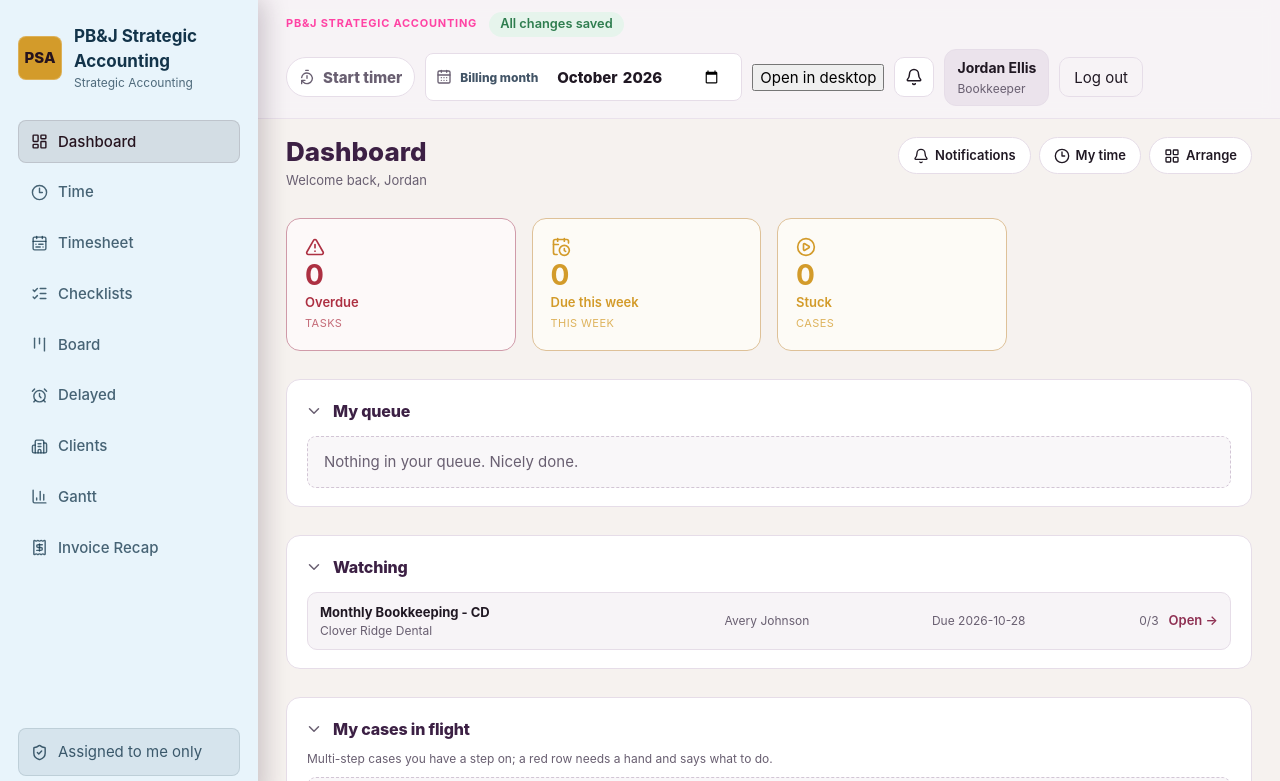
it: preview and staff › a bookkeeper arranges their own Dashboard
This screenshot has width=1280, height=781.
Expected: the heading "Dashboard" is shown, [286,137,427,167]
Click the button "Arrange" at (1200, 156), box [1149,137,1252,174]
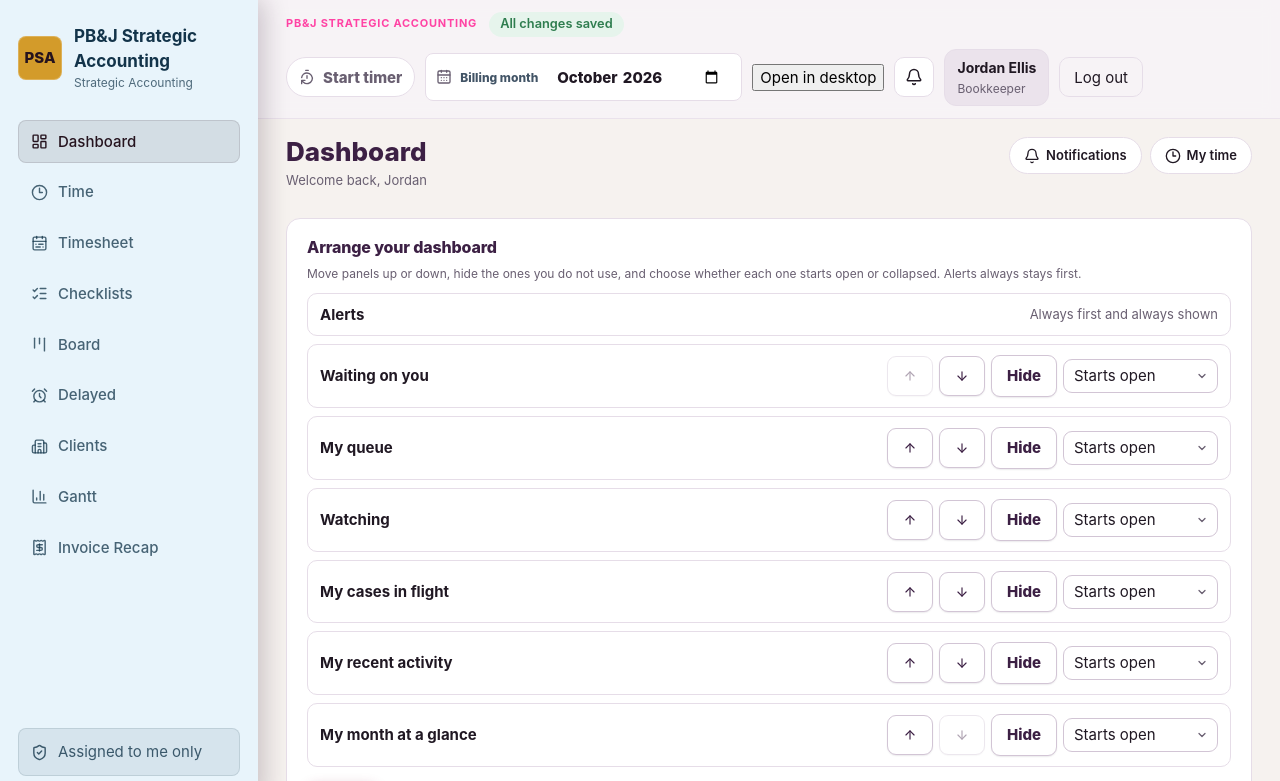
Click the button with aria-label "Hide Watching" at (1024, 520), box [991,499,1057,541]
(page scrolled)
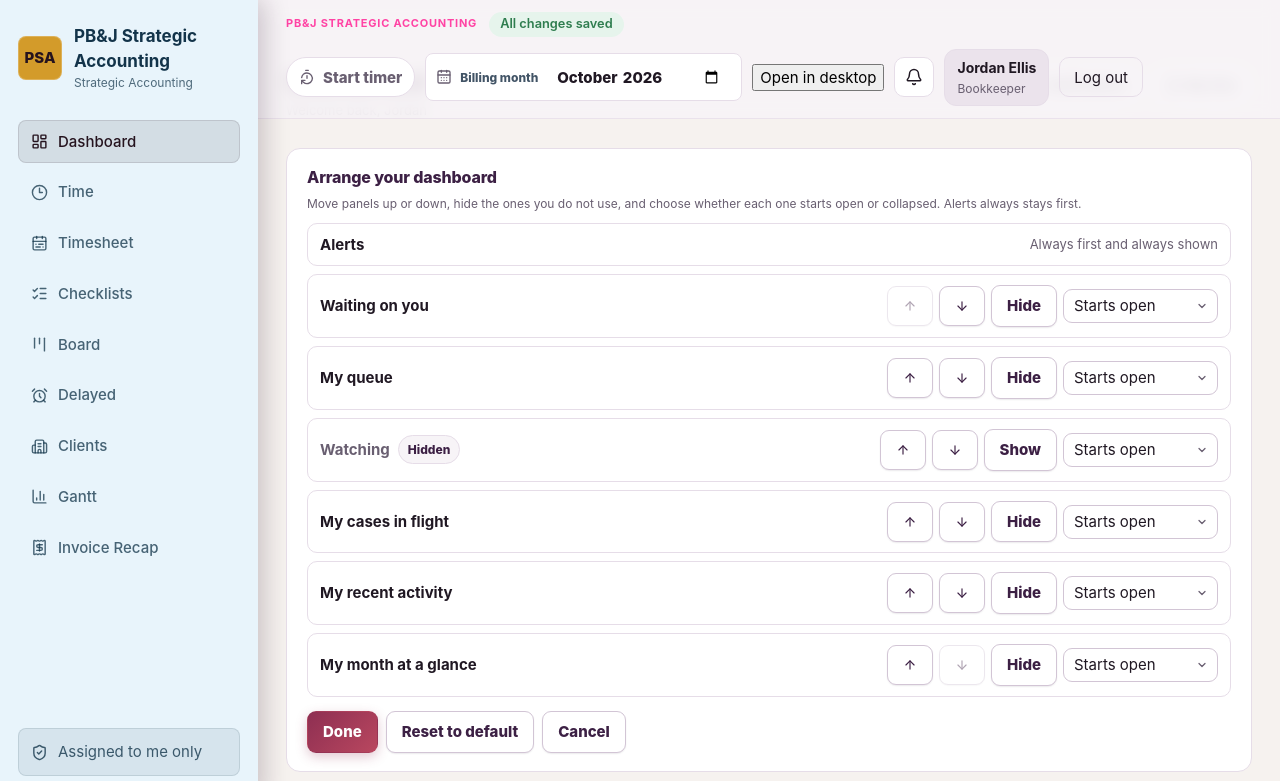
Click the button "Done" at (342, 732), box [307,711,378,753]
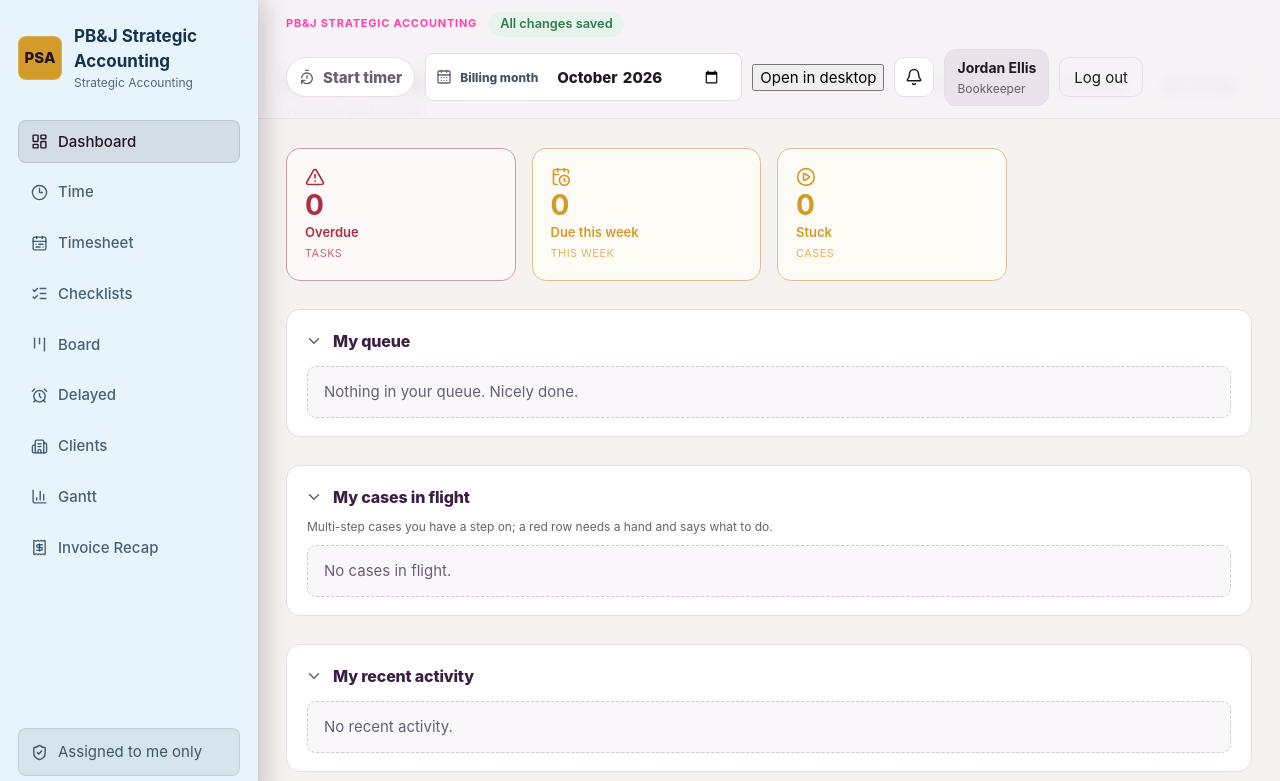
Expected: the text "Watching" is gone
